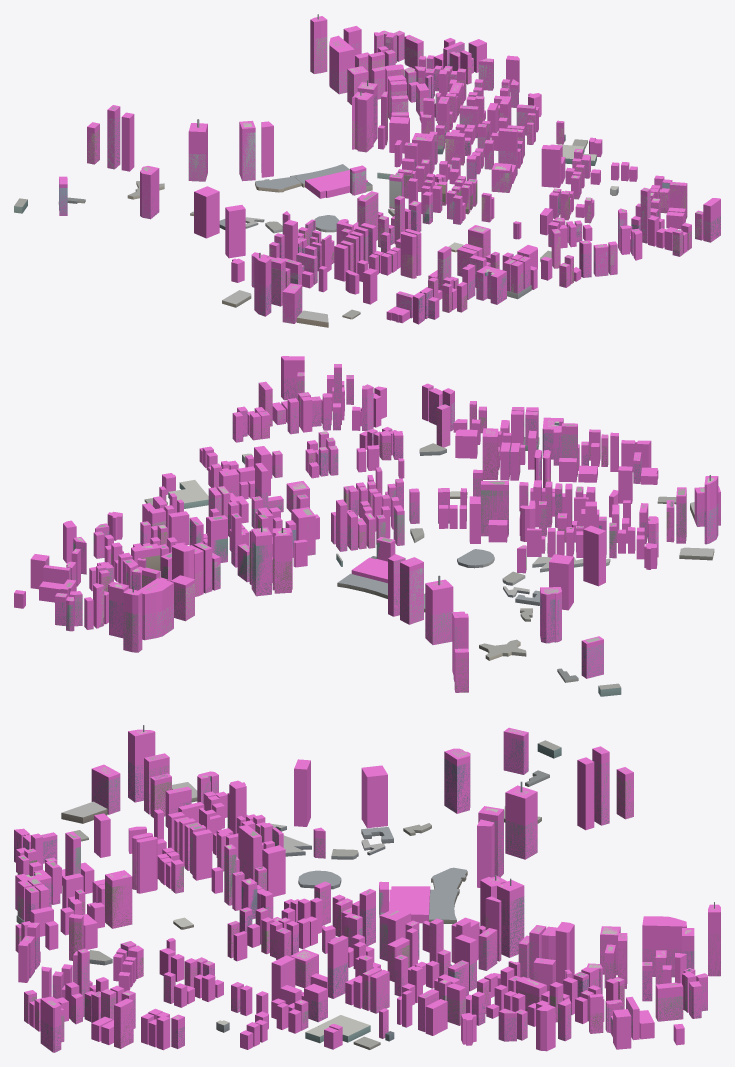
File: bld_17_15.fbx
3 renders of one model, top to bottom at view 1: azimuth 30°, elevation 25°; view 2: azimuth 150°, elevation 25°; view 3: azimuth 270°, elevation 25°, orthographic. The views are drawn at different scales.
Parts seen in each view (by area): view 1: bld_17_15_COL, bld_17_15_LOD0; view 2: bld_17_15_COL, bld_17_15_LOD0; view 3: bld_17_15_COL, bld_17_15_LOD0.
Boxes of the visible parts, bbox=[...] form: bld_17_15_COL: bbox=[59, 16, 720, 324]; bld_17_15_LOD0: bbox=[14, 14, 720, 327]; bld_17_15_COL: bbox=[14, 356, 720, 692]; bld_17_15_LOD0: bbox=[45, 357, 720, 696]; bld_17_15_COL: bbox=[14, 727, 720, 1052]; bld_17_15_LOD0: bbox=[14, 725, 720, 1052].
Size of what is drawn, in the model's own units: 2041 by 229 by 2002.
